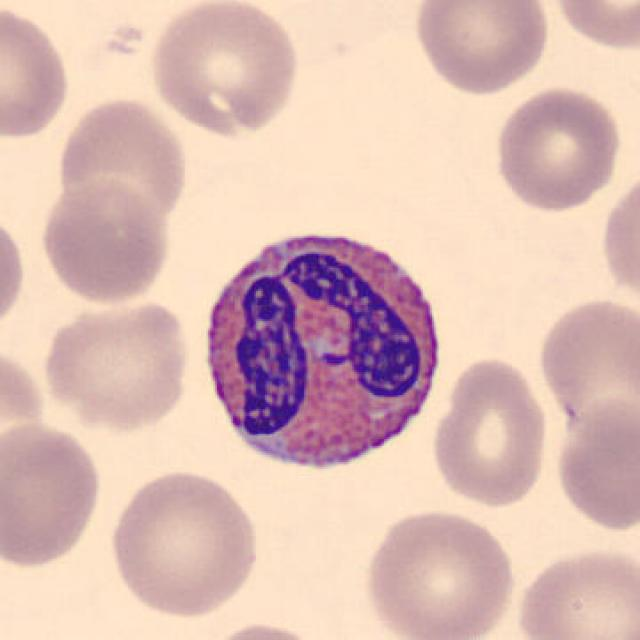Eosinophil: (190, 212, 452, 488)
RBC: (103, 466, 265, 622), (146, 0, 304, 139), (359, 504, 519, 640), (39, 294, 194, 434), (427, 352, 553, 510), (52, 93, 192, 230), (489, 83, 626, 215), (36, 175, 174, 306), (532, 291, 638, 451), (0, 418, 105, 569), (409, 0, 555, 97), (551, 391, 640, 536), (510, 543, 638, 640), (0, 2, 75, 143), (596, 166, 638, 314), (550, 0, 638, 53), (0, 206, 30, 344), (198, 619, 332, 640)
